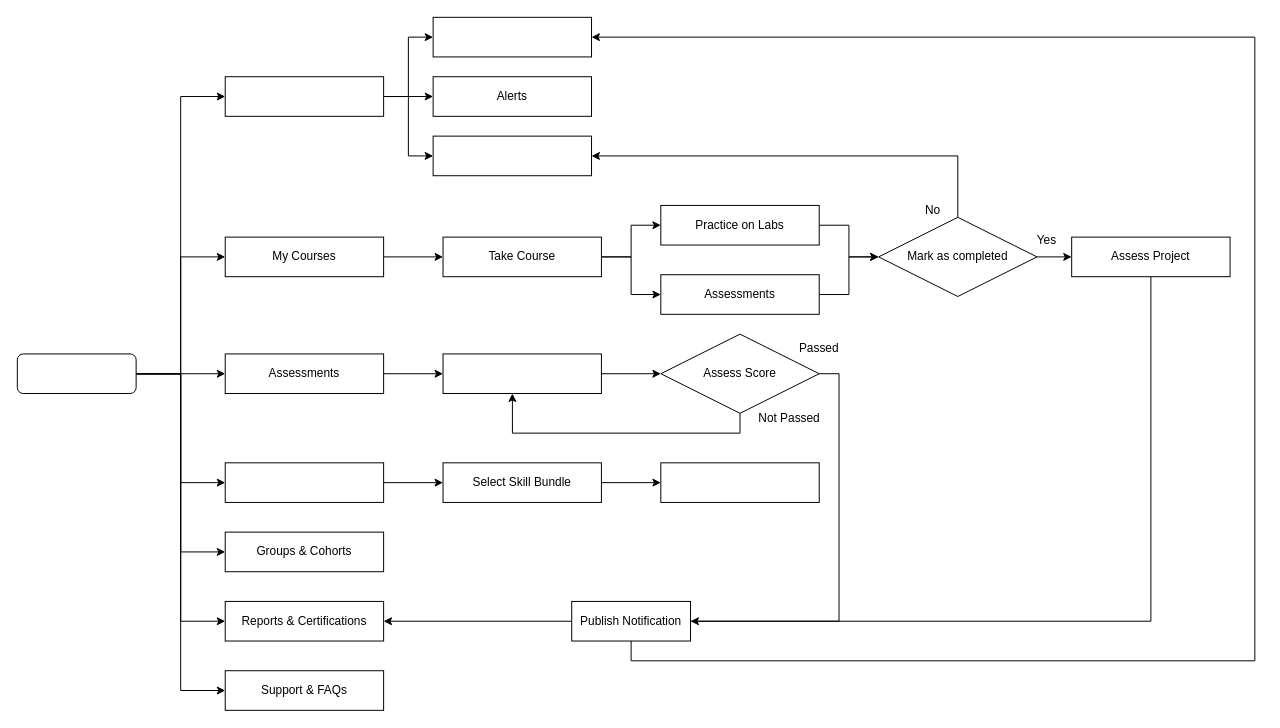
This 1280x728 diagram has some shape labels left out. The shapes that lost their labels are listed below. From the top down, each one's centre as x and y in pixels, then its label:
At (x=512, y=36): "Notifications".
At (x=304, y=96): "Dashboard".
At (x=512, y=155): "Progress".
At (x=76, y=373): "Entry Point".
At (x=521, y=373): "Take Assessment".
At (x=304, y=482): "Learning Paths".
At (x=739, y=482): "Ask Admin to Enroll".
